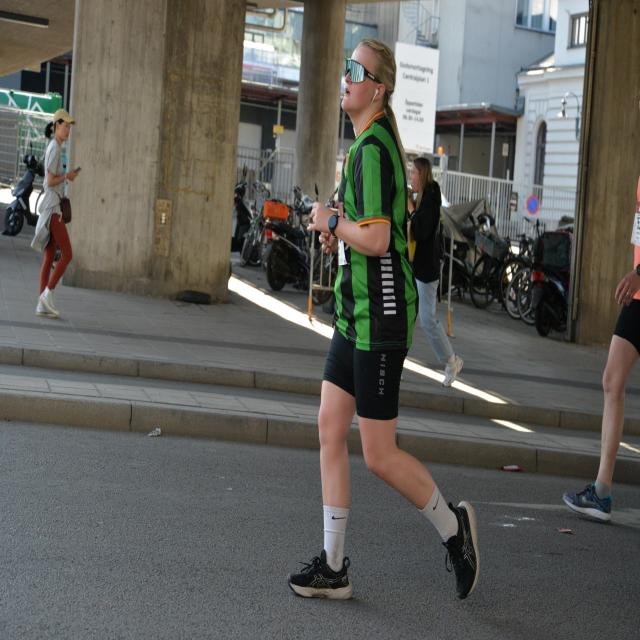runner-detect: (292, 32, 491, 613)
